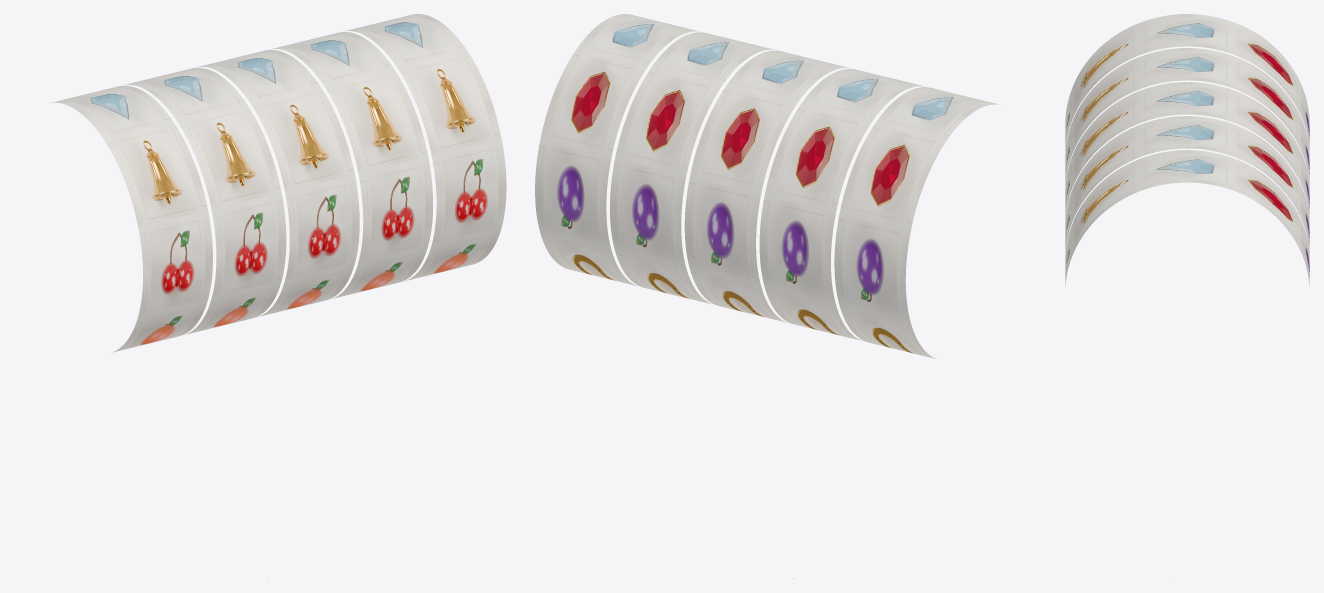
Rendered from fullscreen_palace_atrium.glb.
3 views of the same model, side by side, from view 1: azimuth 30°, elevation 25°; view 2: azimuth 150°, elevation 25°; view 3: azimuth 270°, elevation 25° (orthographic). The views are drawn at different scales.
Visible parts, largest first — view 1: Printed reel 4, Printed reel 2, Printed reel 0, Printed reel 1, Printed reel 3; view 2: Printed reel 2, Printed reel 1, Printed reel 4, Printed reel 0, Printed reel 3; view 3: Printed reel 0, Printed reel 1, Printed reel 2, Printed reel 4, Printed reel 3.
Boxes of the visible parts, x1=… form: Printed reel 4: x1=343, y1=14, x2=506, y2=280; Printed reel 2: x1=197, y1=49, x2=359, y2=316; Printed reel 0: x1=51, y1=85, x2=212, y2=352; Printed reel 1: x1=125, y1=67, x2=286, y2=334; Printed reel 3: x1=271, y1=32, x2=432, y2=298; Printed reel 2: x1=684, y1=50, x2=850, y2=322; Printed reel 1: x1=759, y1=68, x2=925, y2=340; Printed reel 4: x1=535, y1=14, x2=699, y2=286; Printed reel 0: x1=834, y1=87, x2=998, y2=359; Printed reel 3: x1=610, y1=32, x2=774, y2=304; Printed reel 0: x1=1065, y1=14, x2=1309, y2=150; Printed reel 1: x1=1065, y1=48, x2=1309, y2=184; Printed reel 2: x1=1065, y1=82, x2=1309, y2=218; Printed reel 4: x1=1065, y1=150, x2=1309, y2=286; Printed reel 3: x1=1065, y1=116, x2=1309, y2=252.
Bounding box in the file's own units: 1.11 × 1.48 × 0.68.
2 materials, 1 textured.
